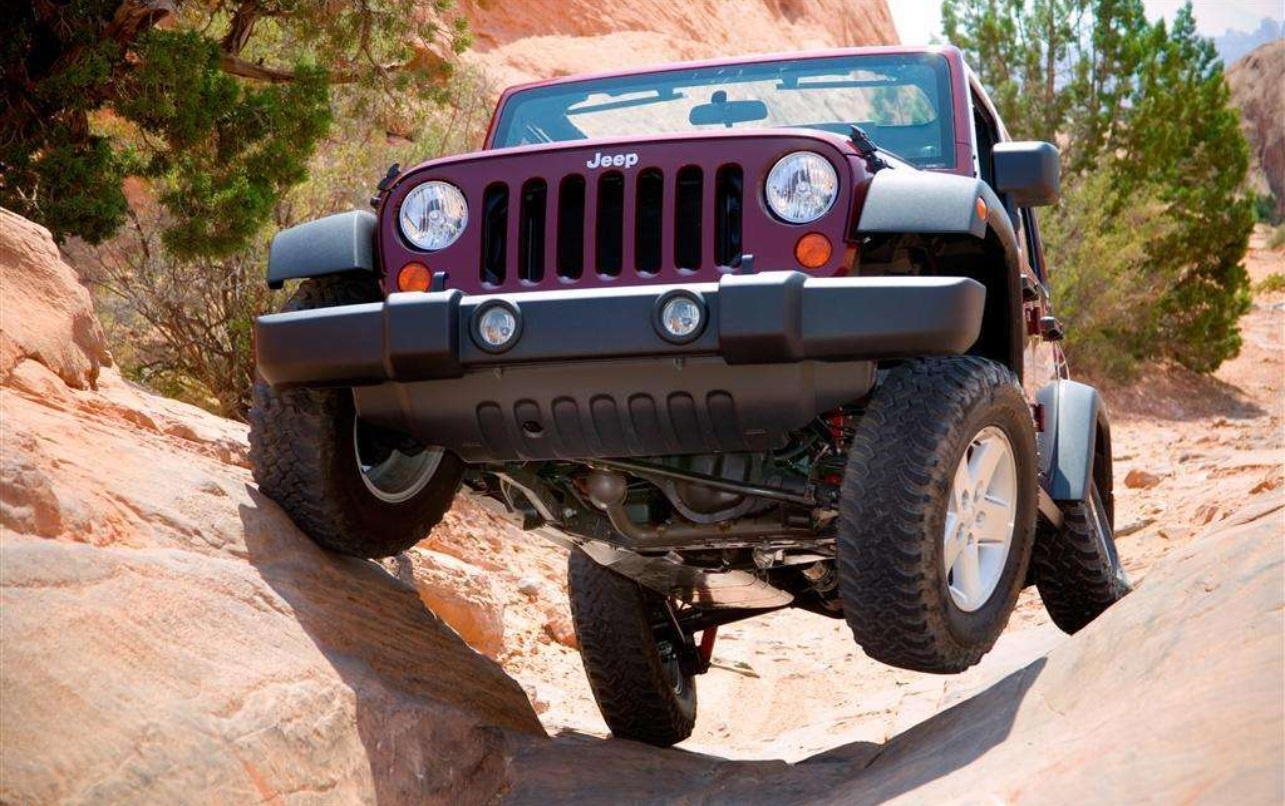jeep: (267, 35, 1127, 731)
